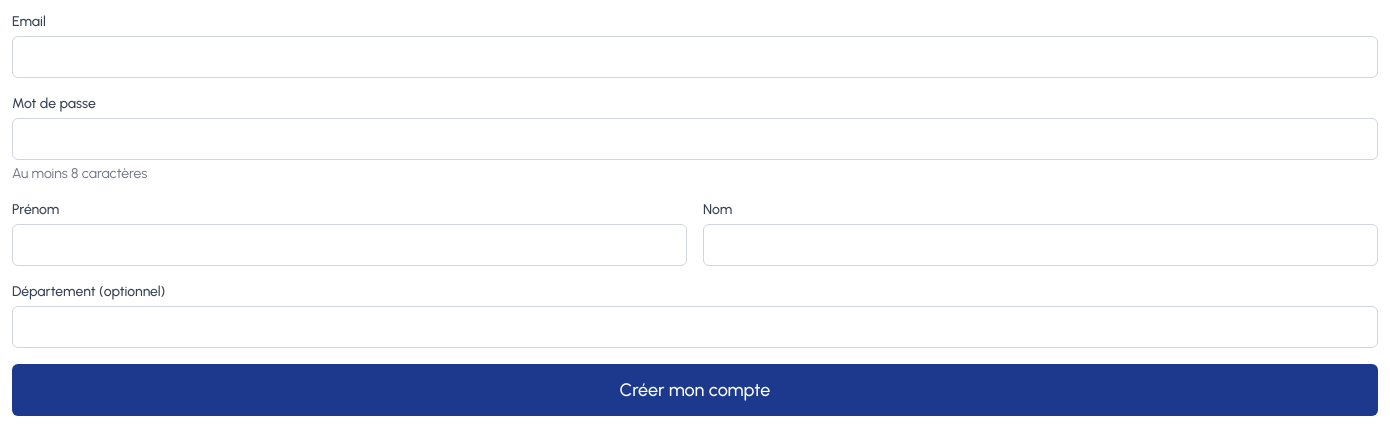
Test: RegisterForm › valide la longueur du mot de passe
Type "test@axa.fr" into the field labelled "Email" at {"x": 695, "y": 57}, box [12,36,1378,78]
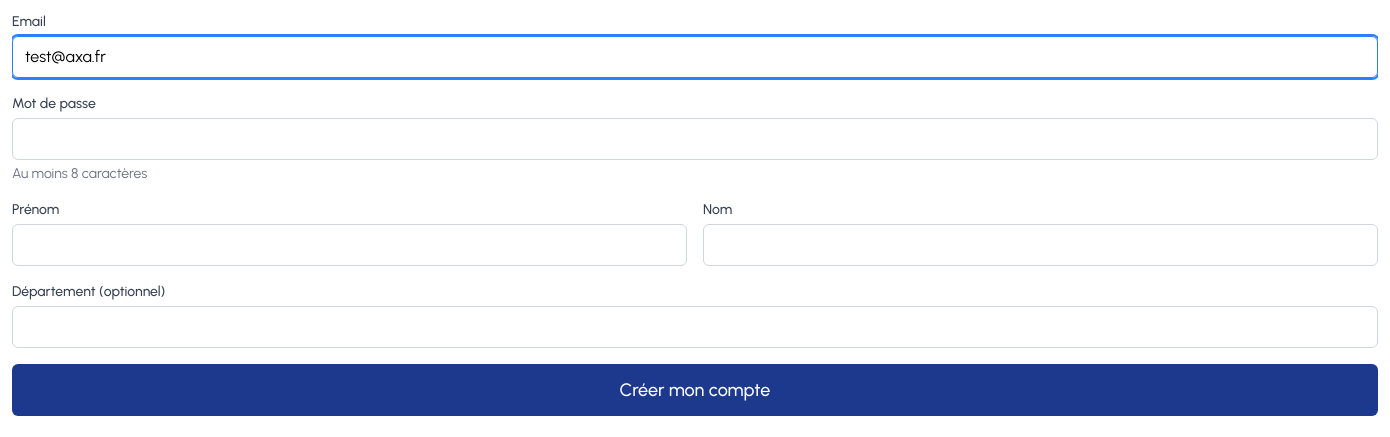
Type "short" into the password field labelled "Mot de passe" at {"x": 695, "y": 139}, box [12,118,1378,160]
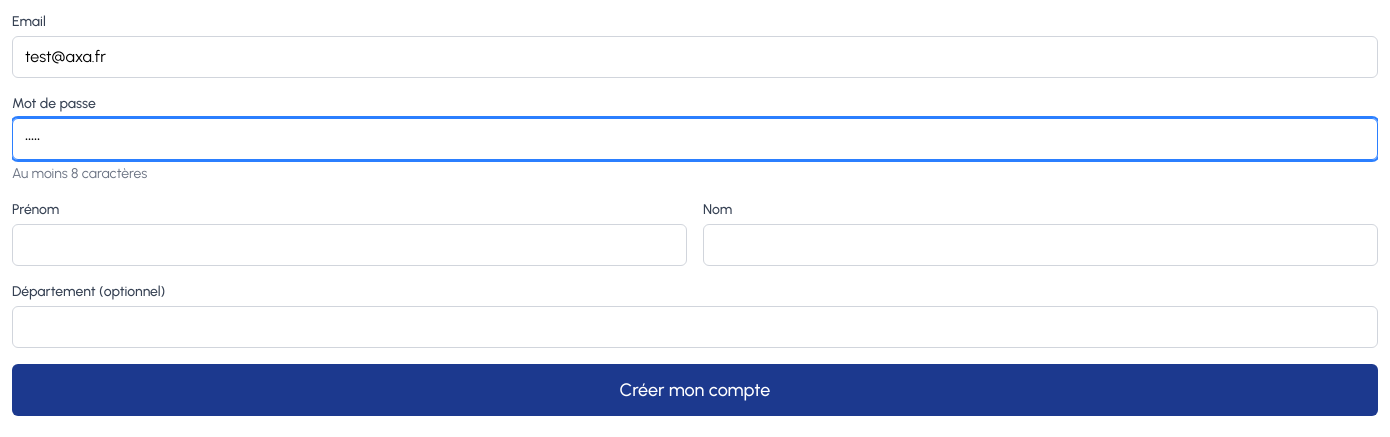
Type "Rainsong" into the field labelled "Prénom" at {"x": 350, "y": 245}, box [12,224,687,266]
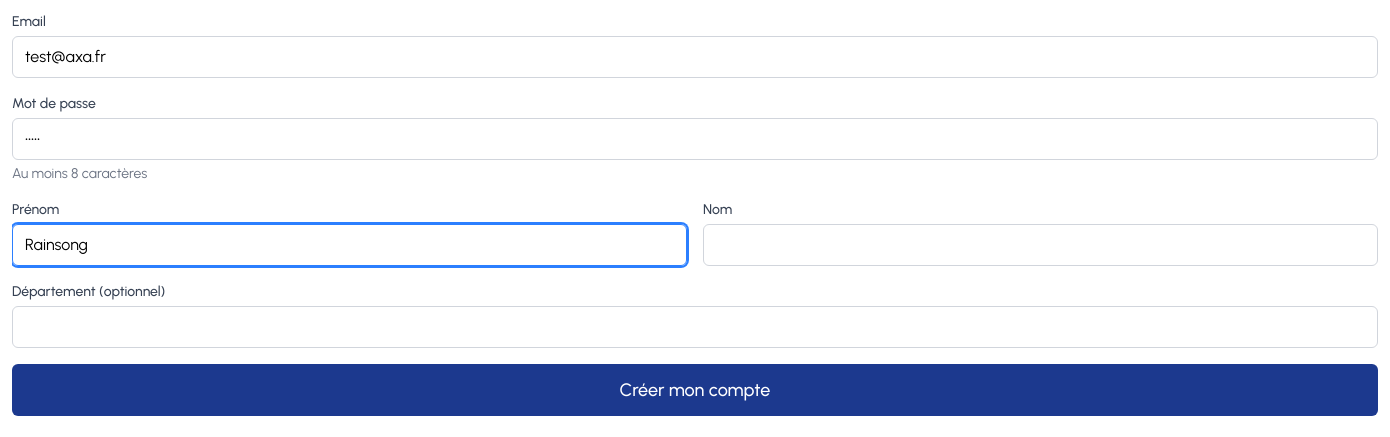
Type "Ngoutsop" into the field labelled "Nom" at {"x": 1040, "y": 245}, box [703,224,1378,266]
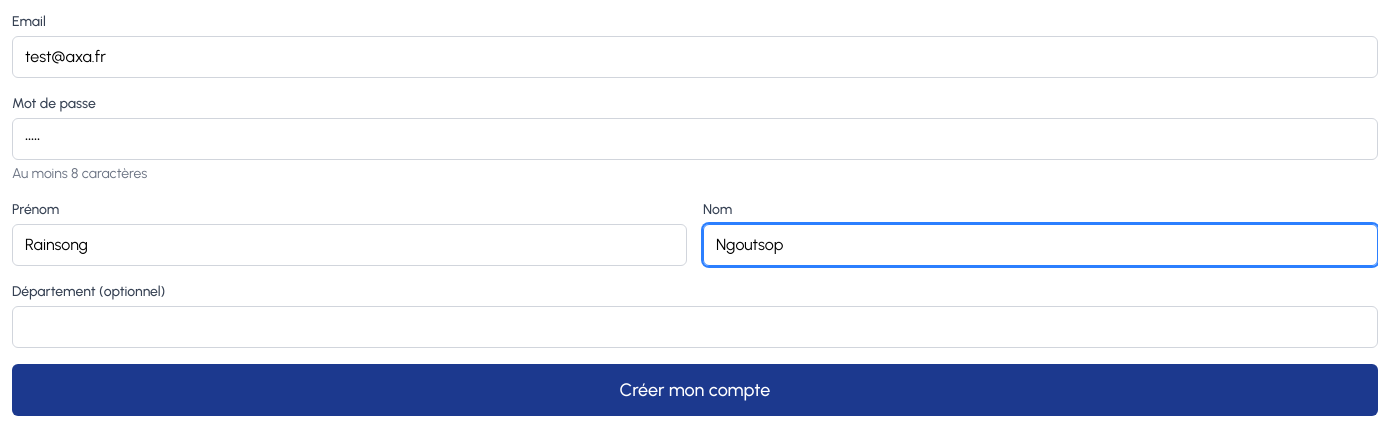
Click the button "Créer mon compte" at {"x": 695, "y": 390}, box [12,364,1378,416]
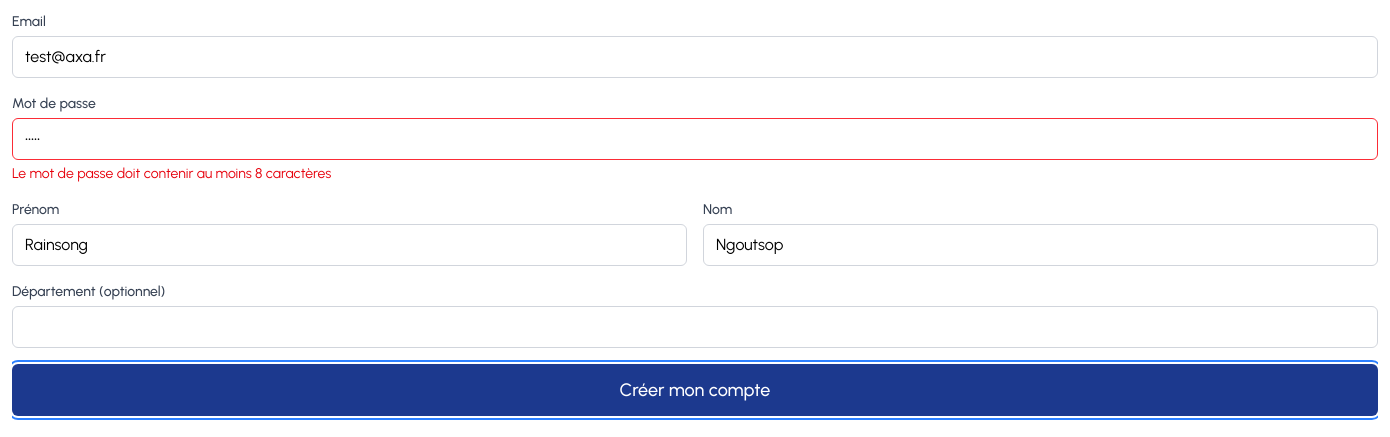
Expected: the text "Le mot de passe doit contenir au moins 8 caractères" is shown, [12,165,331,182]
